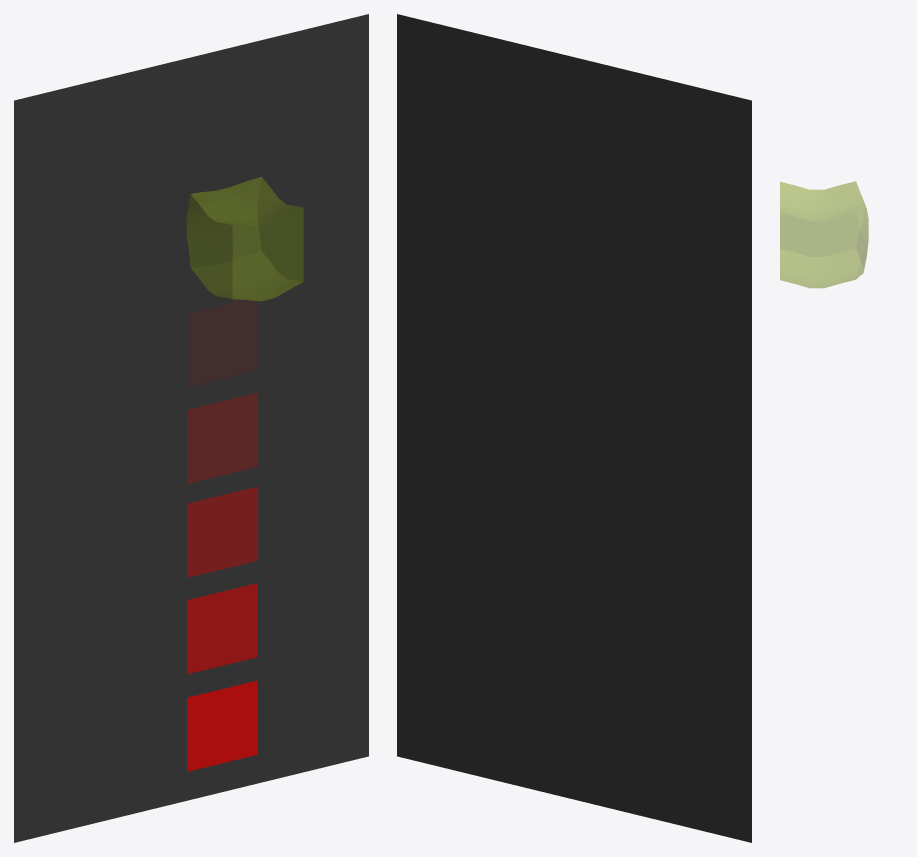
File: reflection.obj
The picture shows the model from 3 angles, left to right: view 1: azimuth 30°, elevation 25°; view 2: azimuth 150°, elevation 25°; view 3: azimuth 270°, elevation 25°; orthographic projection. The views are drawn at different scales.
Parts seen in each view (by area): view 1: Plane001, Box001, Plane002, Plane003, Plane004, Plane005; view 2: Plane001; view 3: Box001.
Boxes of the visible parts, x1,y1,x2,y2 form: Plane001: (14,14,368,842); Box001: (186,177,303,301); Plane002: (187,680,257,771); Plane003: (187,583,257,674); Plane004: (187,486,257,577); Plane005: (187,393,257,483); Plane001: (397,14,751,842); Box001: (780,181,868,288).
Size of the model in its own units: 50 by 100 by 16.58.
